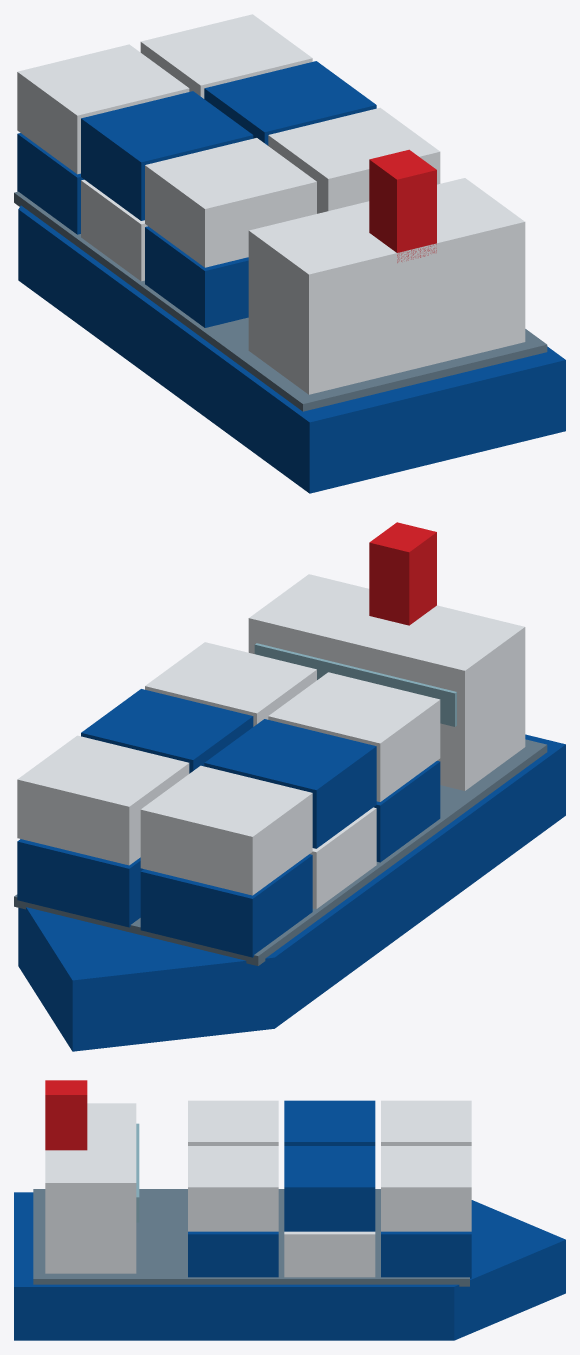
Rendered from ship.glb.
The picture shows the model from 3 angles, top to bottom: view 1: azimuth 30°, elevation 25°; view 2: azimuth 150°, elevation 25°; view 3: azimuth 270°, elevation 25°; orthographic projection. The views are drawn at different scales.
Parts seen in each view (by area): view 1: Cargo (×9), Hull, Bridge, Deck, Funnel; view 2: Cargo (×10), Hull, Bridge, Deck, Funnel, BridgeWindows; view 3: Cargo (×9), Hull, Bridge, Deck, Funnel, BridgeWindows.
Boxes of the visible parts, x1,y1,x2,y2 form: Cargo (×9): (17, 14, 440, 327); Hull: (18, 205, 565, 493); Bridge: (248, 178, 525, 394); Deck: (14, 191, 547, 411); Funnel: (369, 149, 436, 262); Cargo (×10): (17, 642, 440, 957); Hull: (18, 734, 565, 1051); Bridge: (248, 574, 525, 790); Deck: (14, 739, 547, 965); Funnel: (369, 522, 436, 625); BridgeWindows: (254, 643, 456, 726); Cargo (×9): (188, 1100, 471, 1278); Hull: (14, 1192, 565, 1340); Bridge: (45, 1103, 136, 1273); Deck: (33, 1189, 469, 1286); Funnel: (45, 1080, 87, 1150); BridgeWindows: (136, 1123, 139, 1222).
Size of the model in its own units: 3.2 by 3.25 by 7.9.
